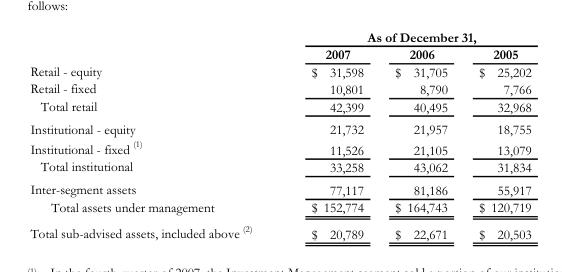table: (29, 29, 530, 241)
table column: (29, 29, 281, 241), (281, 29, 378, 241), (378, 29, 462, 241), (462, 29, 530, 241)
table column header: (29, 29, 530, 62)
table row: (29, 218, 530, 241), (29, 157, 530, 178), (29, 97, 530, 117), (29, 117, 530, 137), (29, 137, 530, 157), (29, 178, 530, 198), (29, 198, 530, 218), (29, 62, 530, 80), (29, 45, 530, 62), (29, 80, 530, 97), (29, 29, 530, 45)
table spanning cell: (281, 29, 530, 45)
